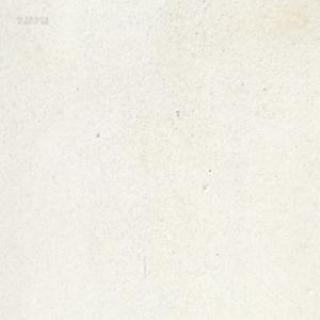Washertrack_idkeyframe: (174, 108, 178, 115)
